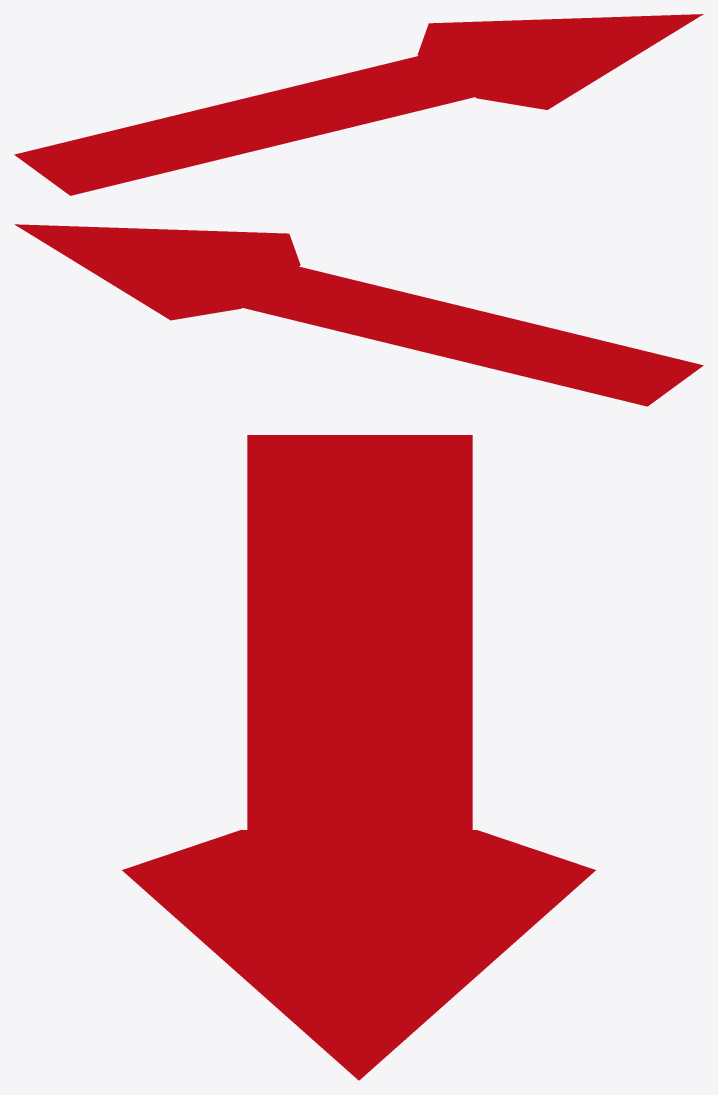
The model's file is onedim2arrow.dae.
3 renders of one model, top to bottom at view 1: azimuth 30°, elevation 25°; view 2: azimuth 150°, elevation 25°; view 3: azimuth 270°, elevation 25°, orthographic. The views are drawn at different scales.
Visible parts, largest first — view 1: Plane; view 2: Plane; view 3: Plane.
Part boxes in pixels (x1,y1,x2,y2): Plane: [14, 14, 703, 195]; Plane: [14, 224, 703, 406]; Plane: [122, 435, 595, 1080].
Bounding box in the file's own units: 4.29 × 1.33 × 0.
